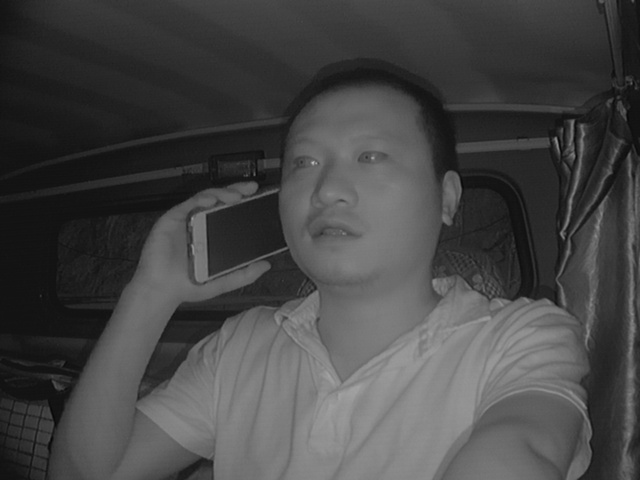hand: (147, 175, 269, 305)
